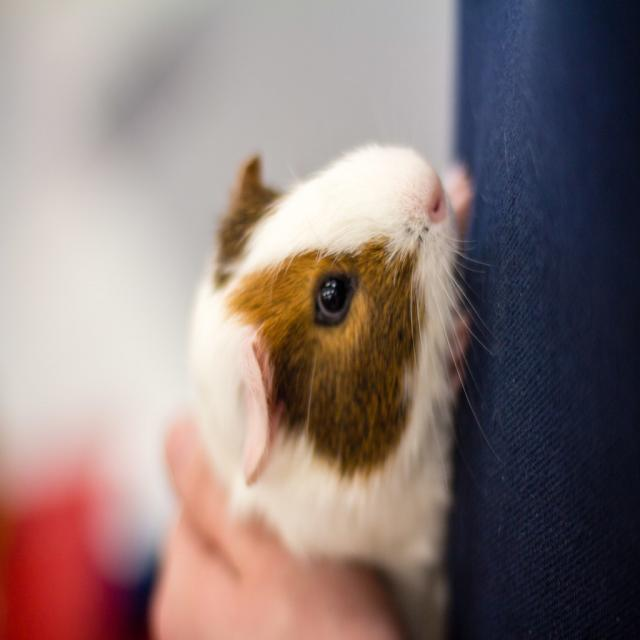rat: (187, 134, 475, 586)
